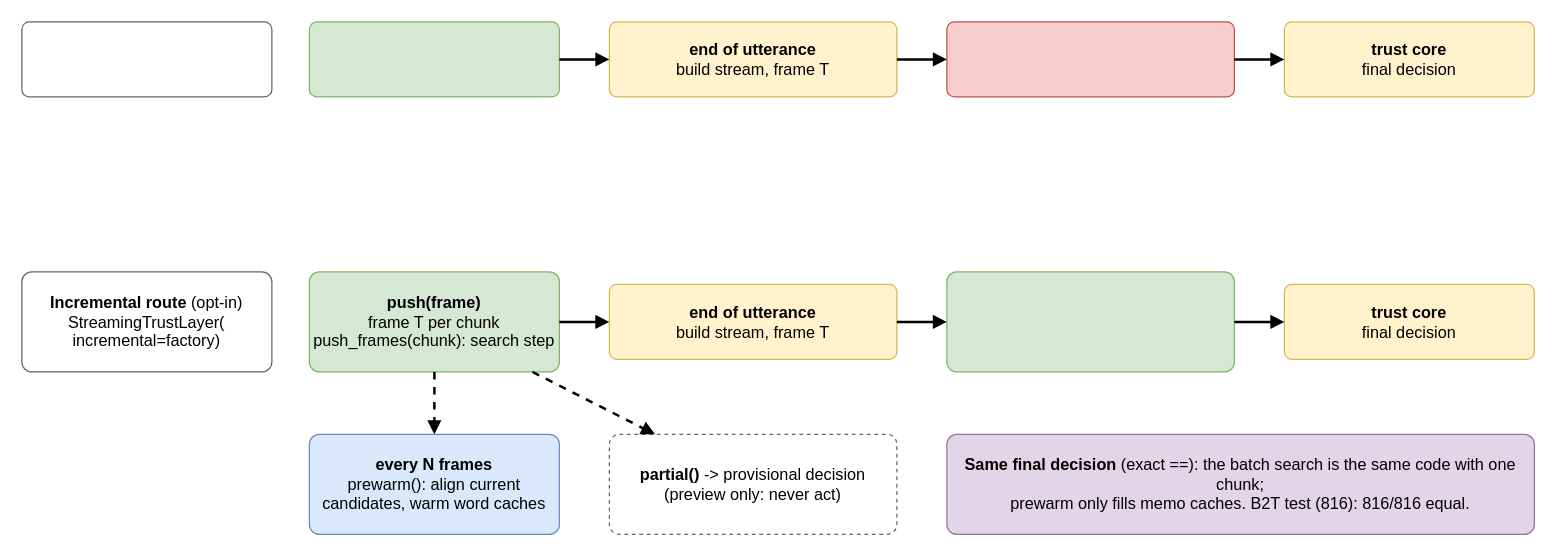
Some shapes in this 1556 by 556 pixel diagram are drawn without their labels. The shapes that lost their labels are listed below. From the top down, each one's centre as x and y in pixels, then its label:
the point at 146,59: Default frame route decode_fn(stream)
the point at 433,59: push(frame) check + append row
the point at 1090,59: decode the whole utterance beam search + alignment + words
the point at 1090,321: finalize(stream) end LM terms, one batched alignment, words from warm caches
